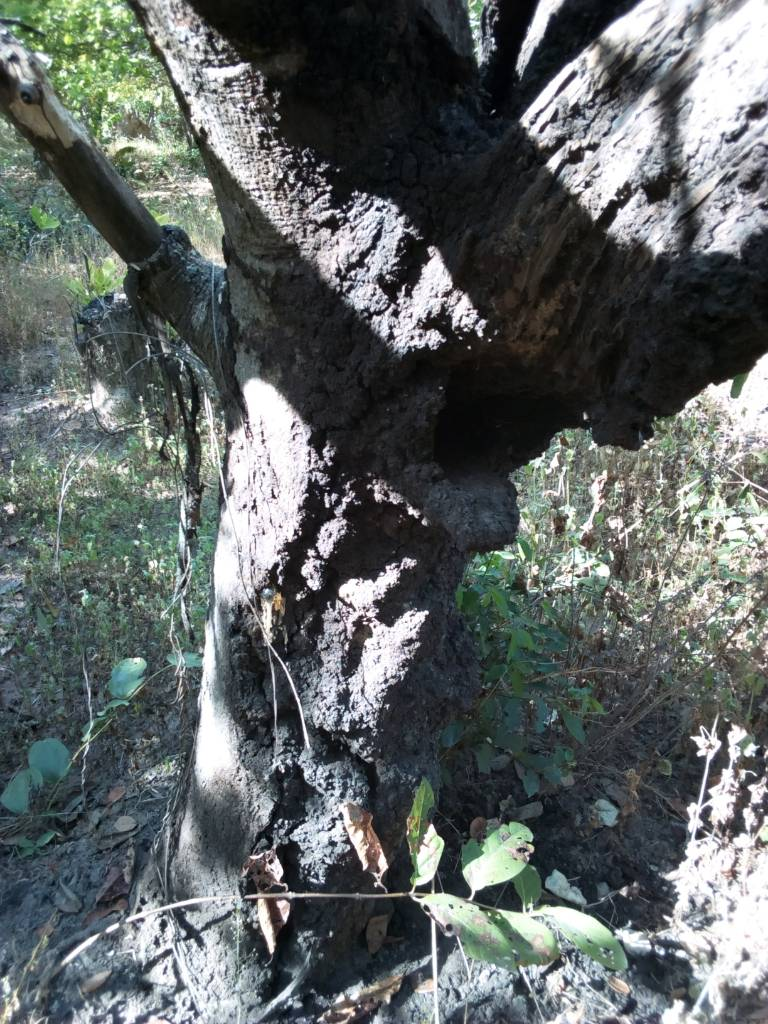Termites: (252, 324, 457, 889), (222, 17, 543, 317)
